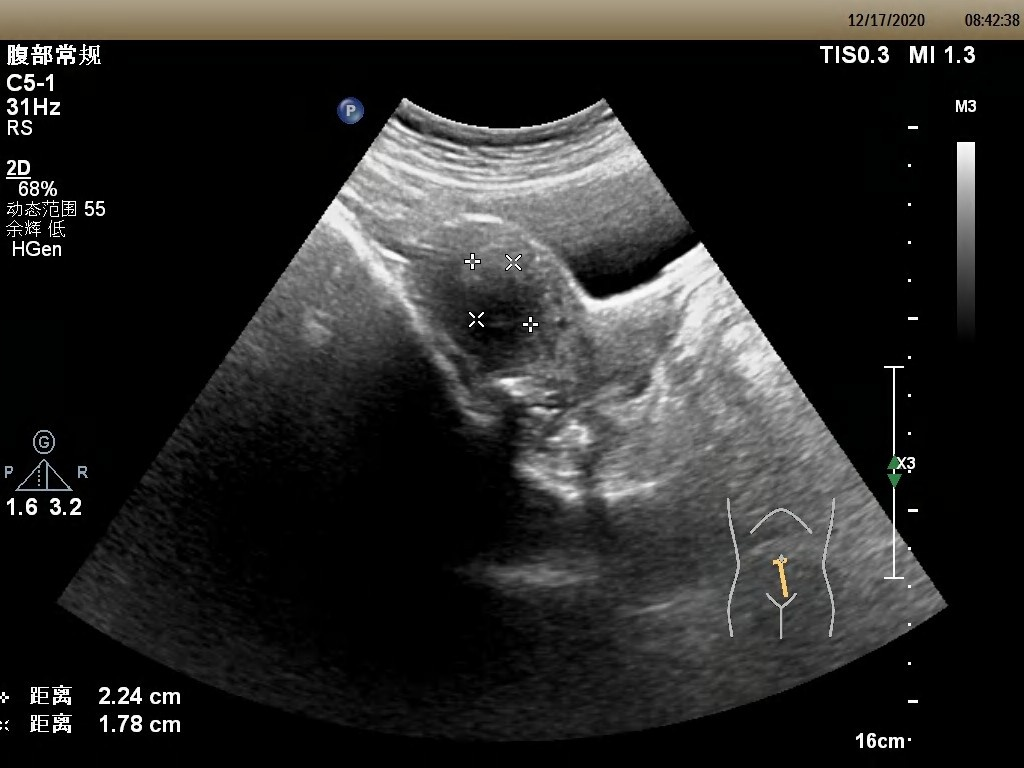肌瘤: (469, 255, 534, 319)
